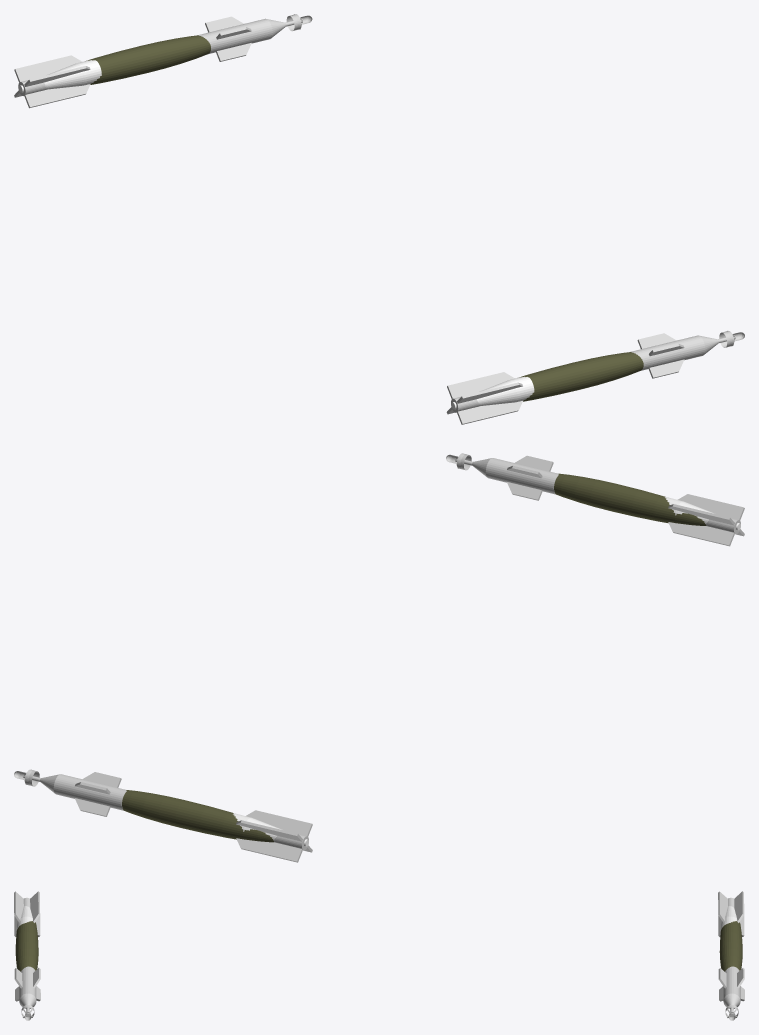
File: f18fgbu12161.glb
The picture shows the model from 3 angles, top to bottom: view 1: azimuth 30°, elevation 25°; view 2: azimuth 150°, elevation 25°; view 3: azimuth 270°, elevation 25°; orthographic projection. The views are drawn at different scales.
Visible parts, largest first — view 1: 円柱.007, 円柱.006; view 2: 円柱.006, 円柱.007; view 3: 円柱.006, 円柱.007.
Boxes of the visible parts, left/top/right/bottom form: 円柱.007: left=14, top=14, right=312, bottom=108; 円柱.006: left=446, top=331, right=744, bottom=424; 円柱.006: left=446, top=453, right=744, bottom=546; 円柱.007: left=14, top=769, right=312, bottom=862; 円柱.006: left=14, top=891, right=40, bottom=1020; 円柱.007: left=718, top=891, right=744, bottom=1020.
Size of the model in its own units: 3.69 by 0.3609 by 9.82.
Materials: 2 (1 with a texture image).
